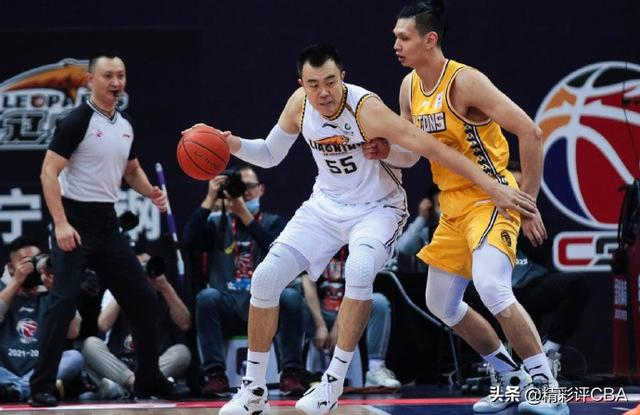ball: (177, 123, 229, 181)
